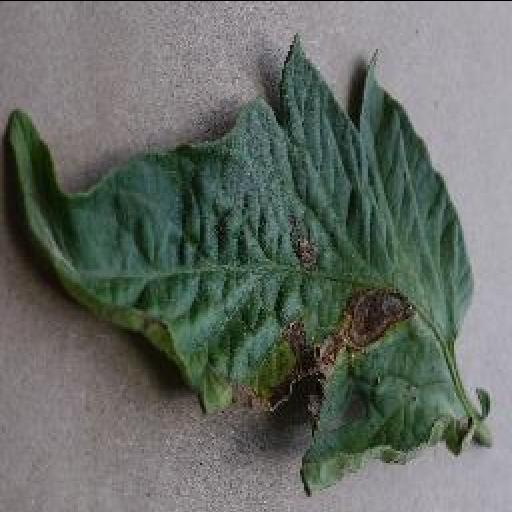disease_tomato: (6, 30, 476, 492)
